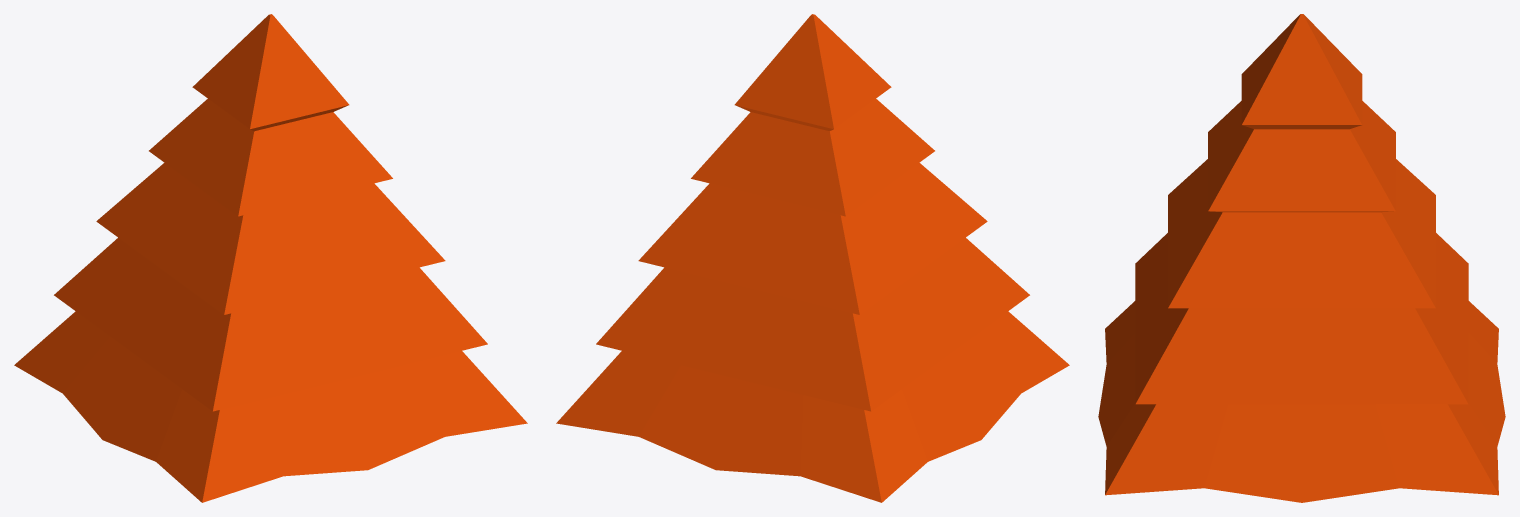
File: stacked_tree.fbx
3 views of the same model, side by side, from view 1: azimuth 30°, elevation 25°; view 2: azimuth 150°, elevation 25°; view 3: azimuth 270°, elevation 25° (orthographic). The views are drawn at different scales.
Visible parts, largest first — view 1: Cube.007; view 2: Cube.007; view 3: Cube.007.
Boxes of the visible parts, left/top/right/bottom form: Cube.007: left=14, top=14, right=527, bottom=502; Cube.007: left=556, top=14, right=1069, bottom=502; Cube.007: left=1098, top=14, right=1505, bottom=502.
Bounding box in the file's own units: 754 × 754 × 958.
